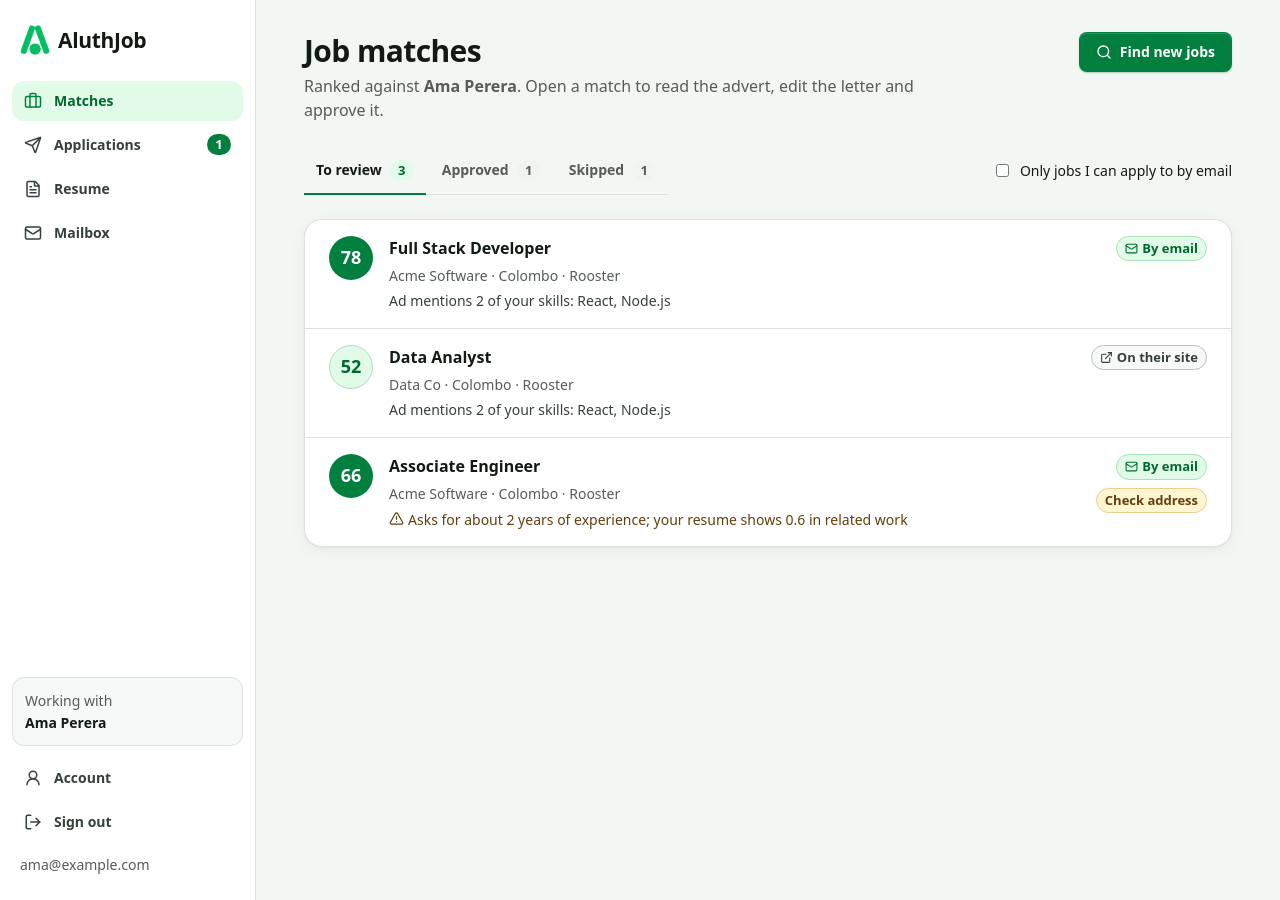
Test: matches list › can show only the jobs that can be applied to by email
Expected: the link "Data Analyst" is shown, [305, 329, 1231, 437]
What coordinates should you click on to do the following:
click the checkbox labelled "Only jobs I can apply to by email"
I would click on:
 (1002, 171)
Its box is [996, 164, 1009, 177].
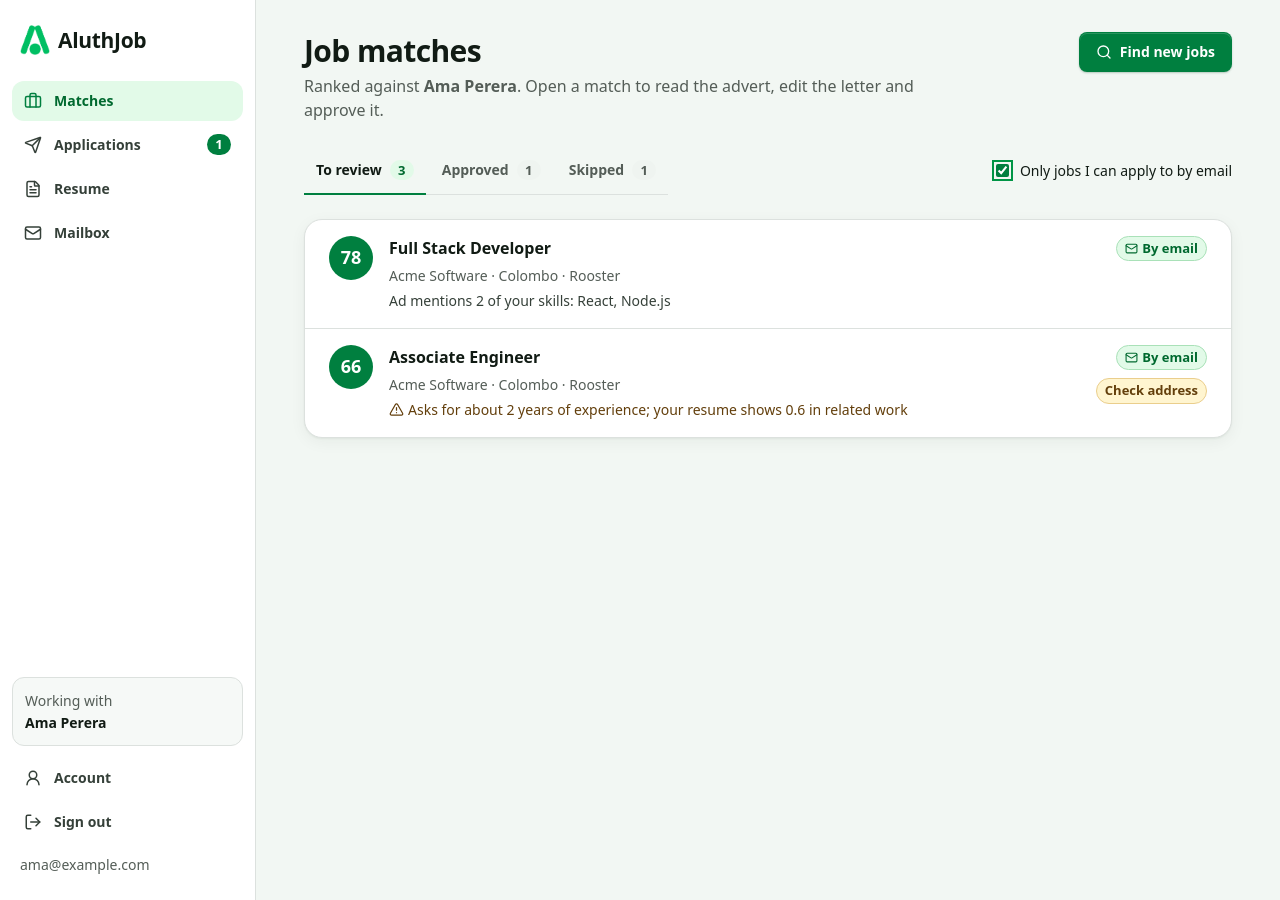
Expected: the link "Full Stack Developer" is shown, [305, 220, 1231, 328]
Now the link "Data Analyst" is gone
